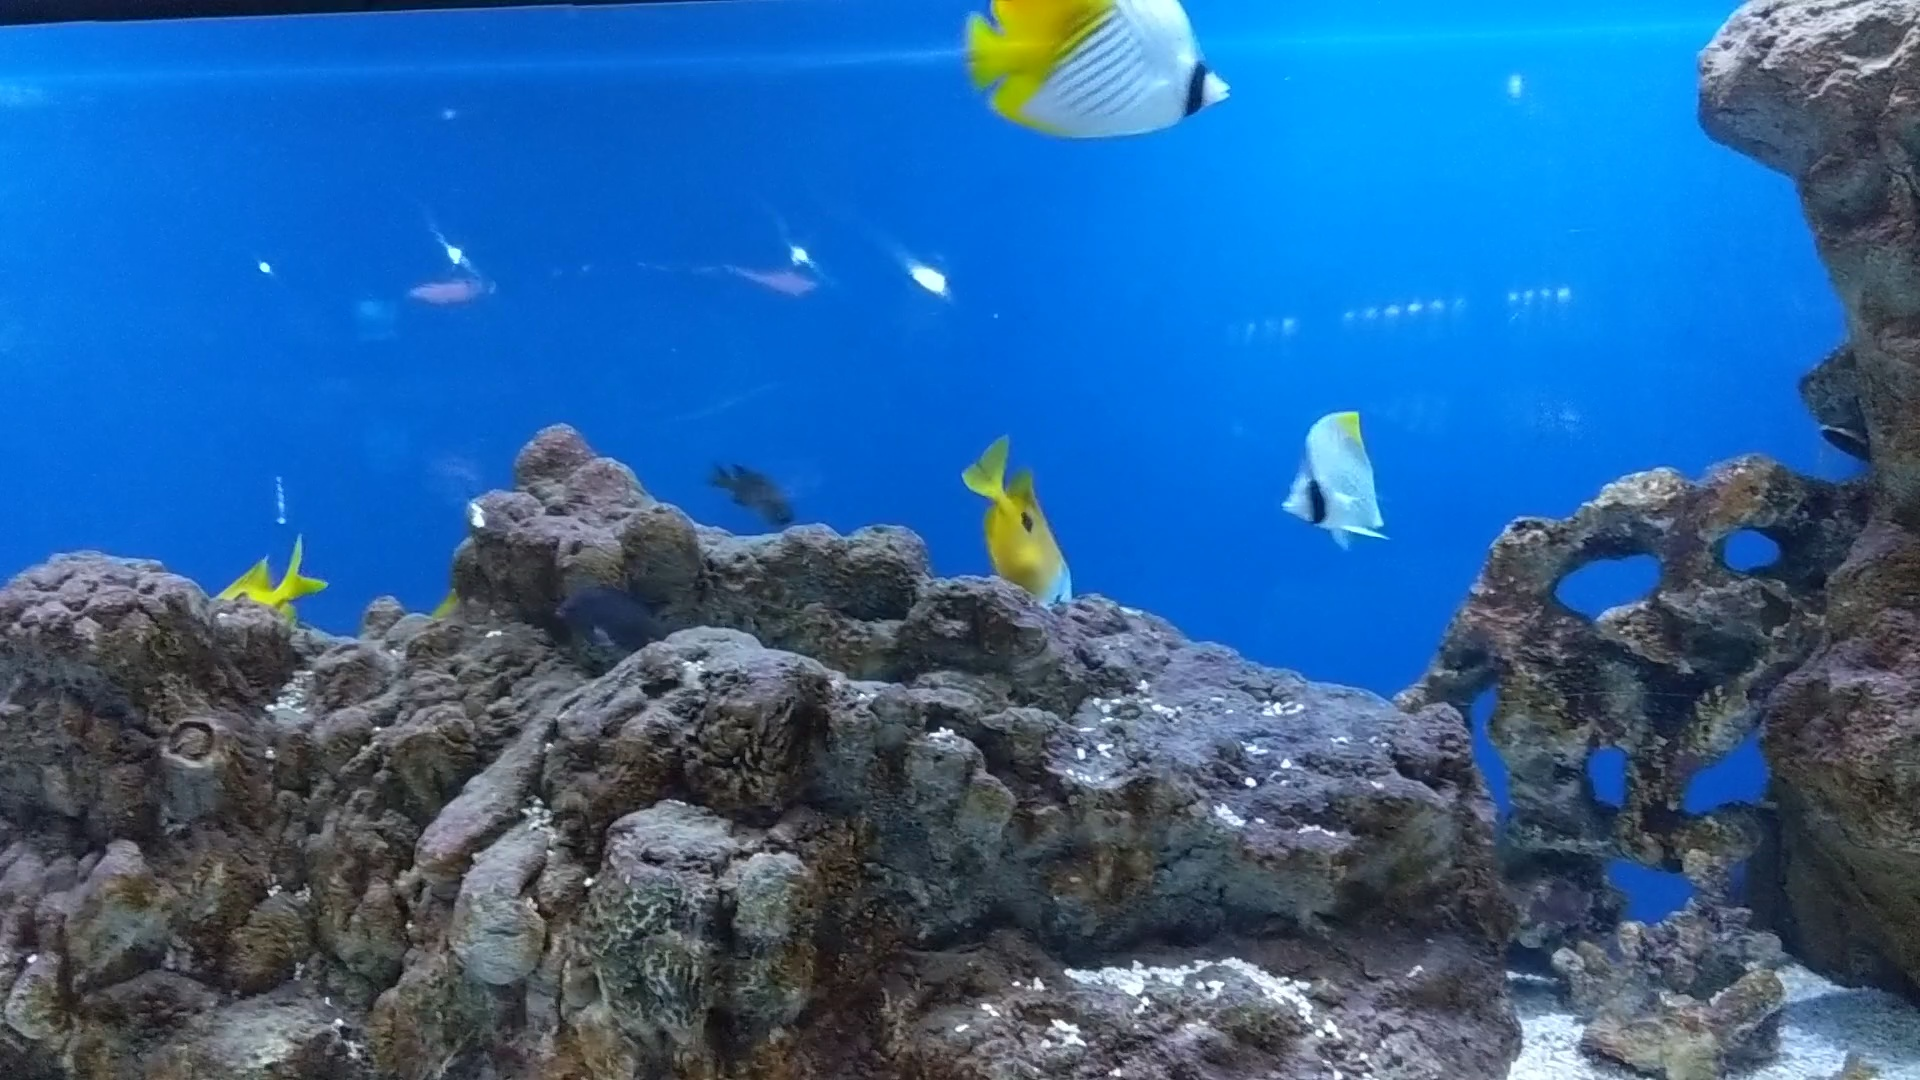butterflyfish: (951, 3, 1218, 150)
moorfish: (1249, 398, 1400, 549)
rabbitfish: (947, 433, 1079, 607)
